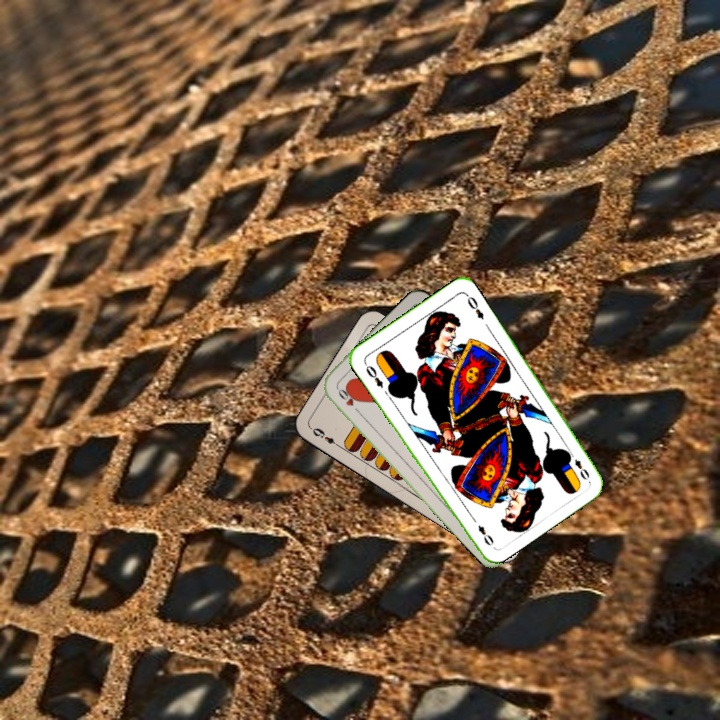E9: (307, 423, 343, 450)
EO: (565, 447, 592, 483), (360, 358, 386, 391)
HO: (333, 384, 363, 417)
